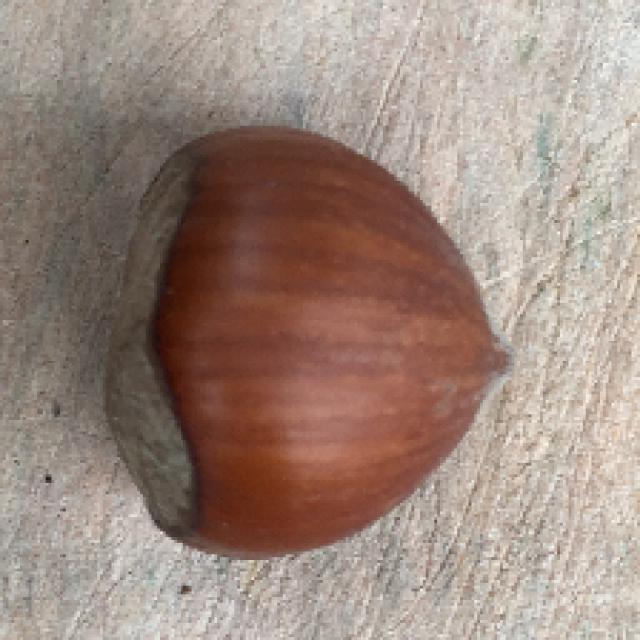QualityHazelnut: (104, 125, 520, 564)
